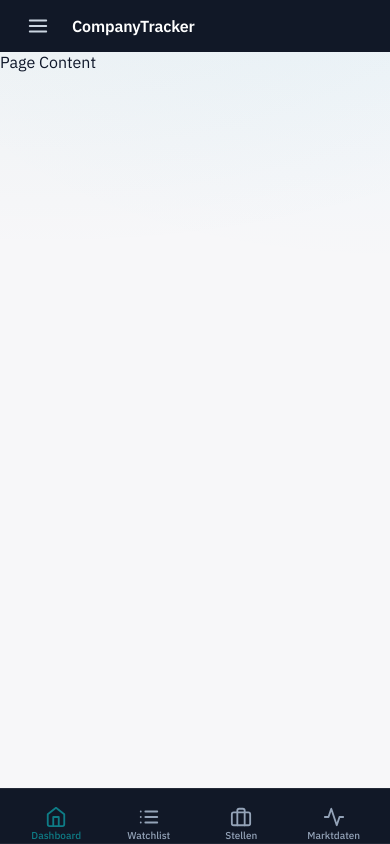
Test: AppLayout — mobile › opens the drawer when the hamburger button is clicked
Click the button named "navigation öffnen".
click(38, 26)  # box [16,4,60,48]
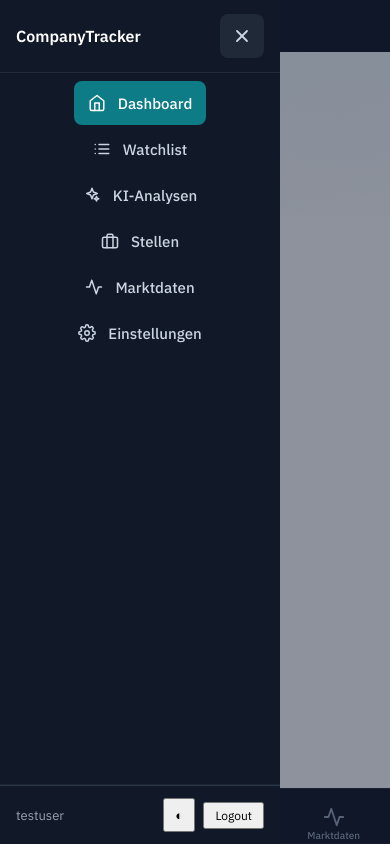
Now the dialog named "navigation" is shown
